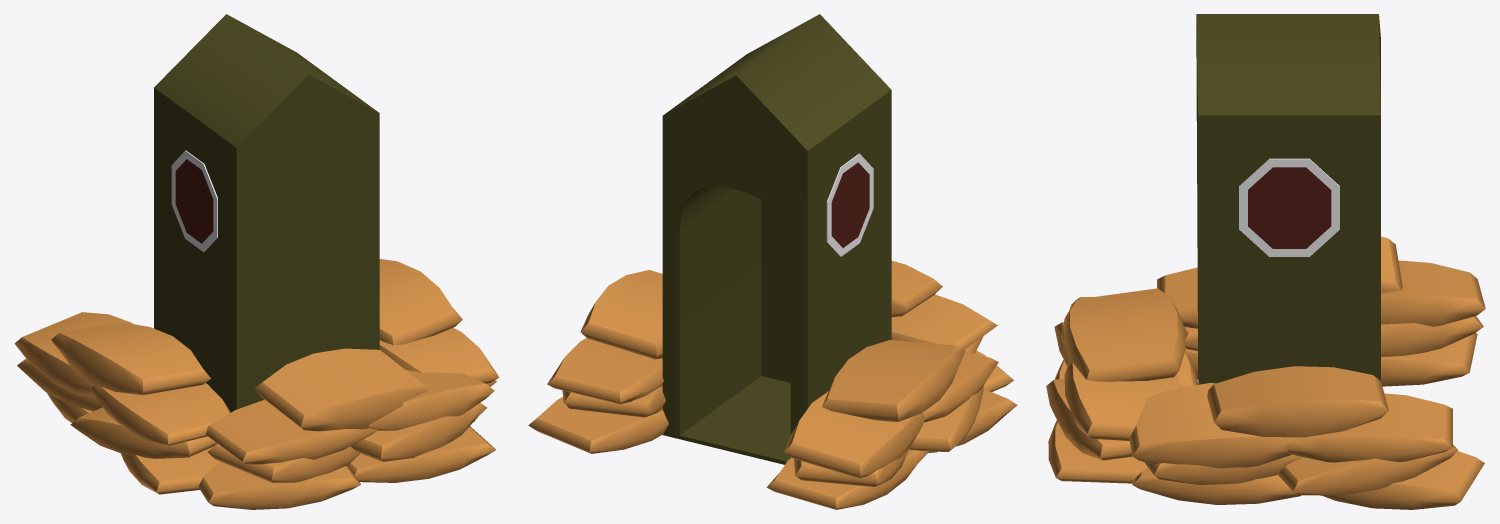
The model's file is SM_checkpoint.fbx.
3 views of the same model, side by side, from view 1: azimuth 30°, elevation 25°; view 2: azimuth 150°, elevation 25°; view 3: azimuth 270°, elevation 25° (orthographic). The views are drawn at different scales.
Parts seen in each view (by area): view 1: checkpoint; view 2: checkpoint; view 3: checkpoint.
Boxes of the visible parts, bbox=[...] form: checkpoint: bbox=[14, 14, 499, 509]; checkpoint: bbox=[528, 14, 1017, 509]; checkpoint: bbox=[1046, 14, 1485, 509].
Size of the model in its own units: 105 by 102 by 99.26.
